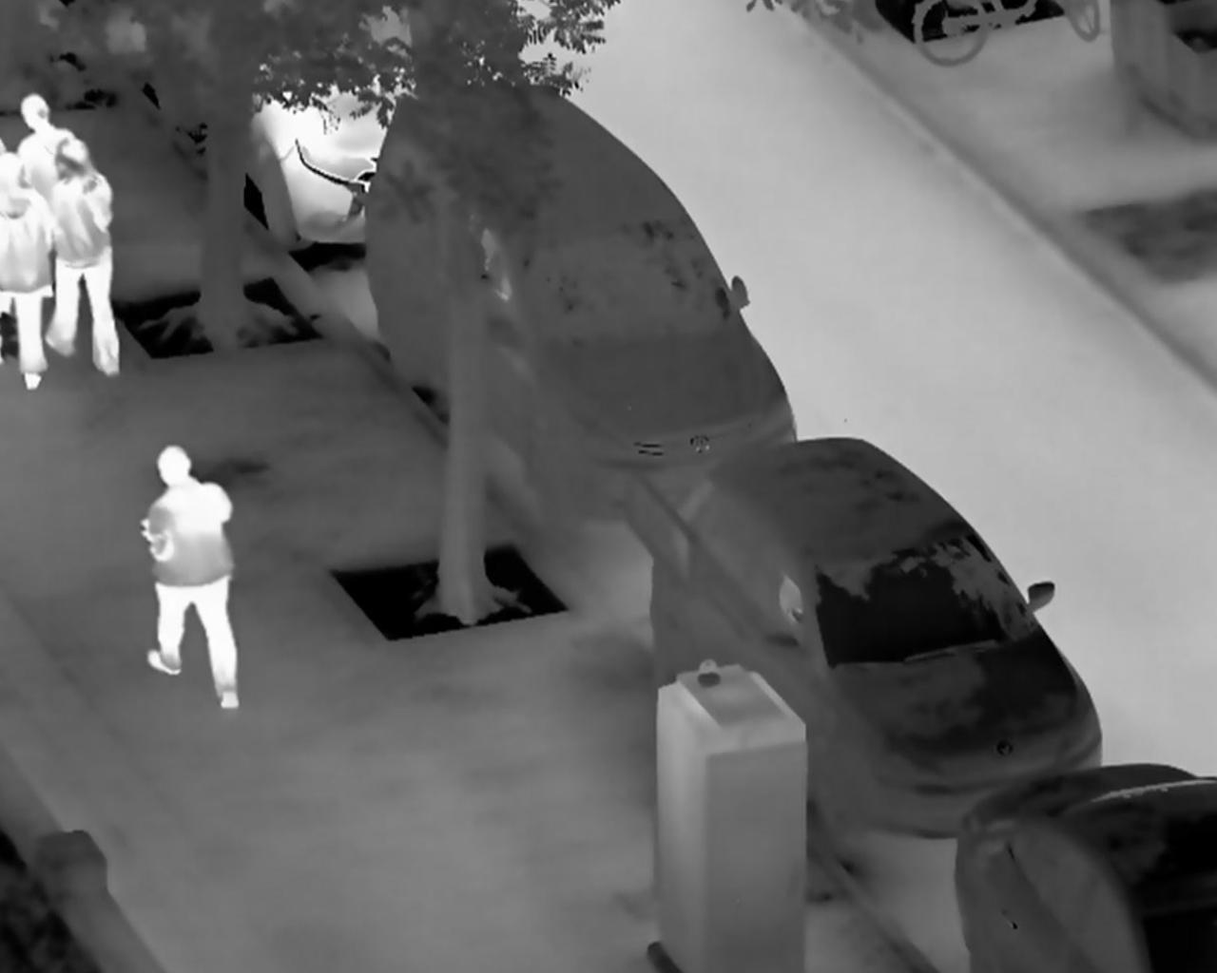person: (137, 443, 242, 715), (45, 139, 125, 379)
